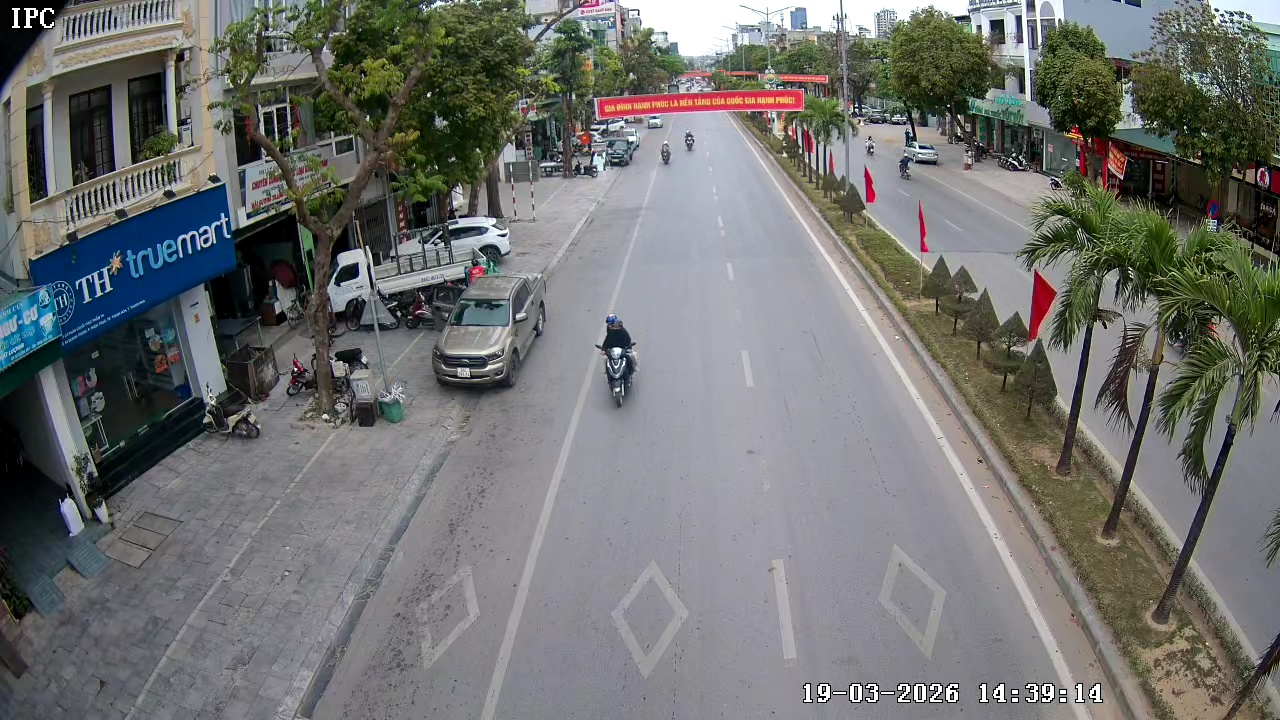car: (431, 273, 545, 388)
motorbike: (593, 312, 641, 409), (658, 137, 673, 166), (682, 129, 697, 152)
truck: (607, 136, 639, 170)
